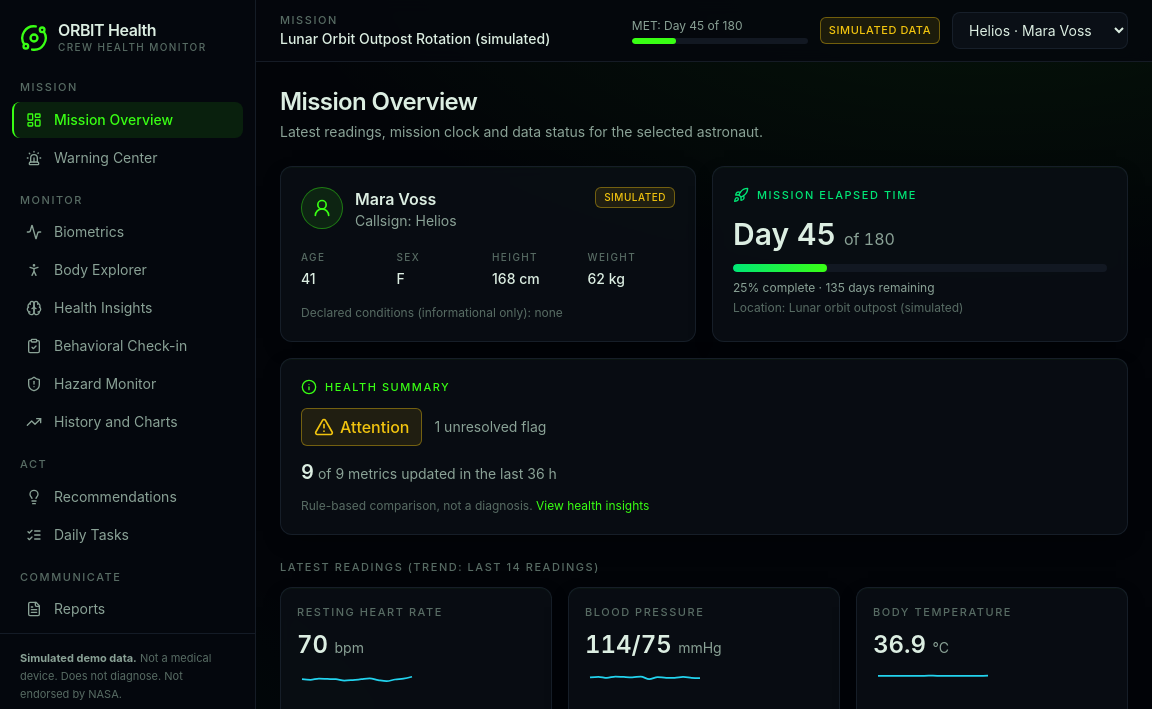
Test: app shell and routing › switches the active astronaut profile from the header
Select "Tern · Daniel Okafor" in the dropdown named "Astronaut profile": (1040, 30) [952,12,1128,49]
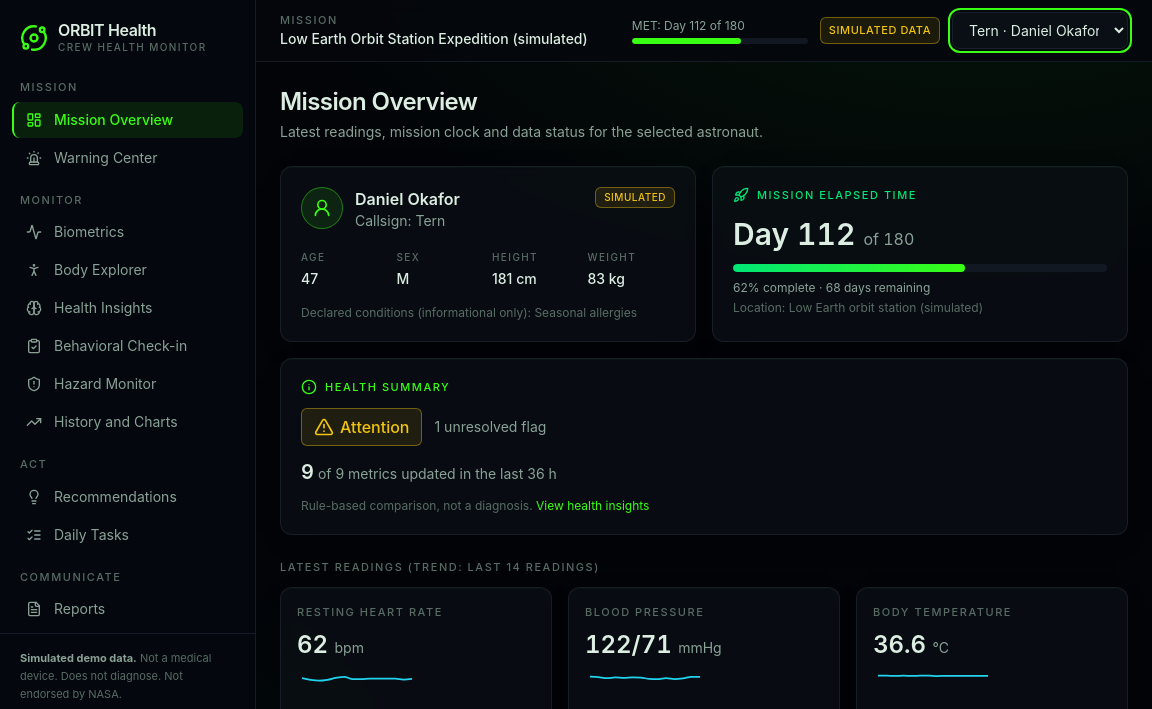
expect the text "Low Earth Orbit Station Expedition (simulated)" is shown: met, box [280,29,620,49]
